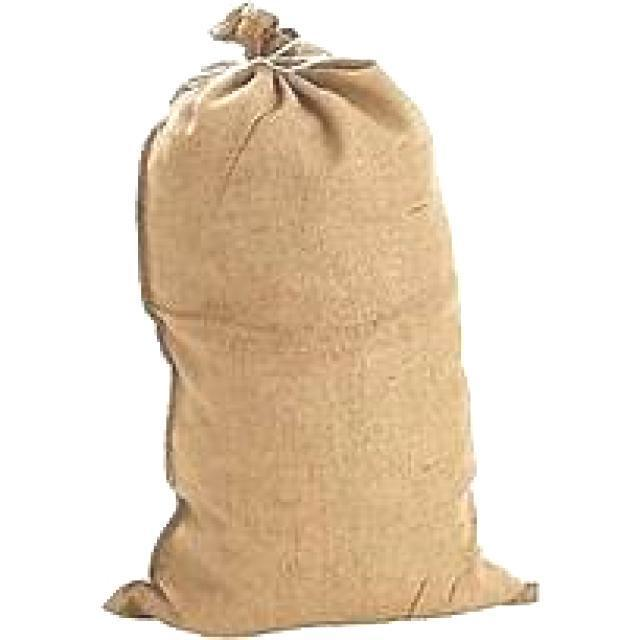gunny_bag: (83, 0, 552, 640)
